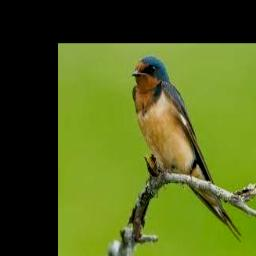Swallow: (132, 55, 243, 242)
